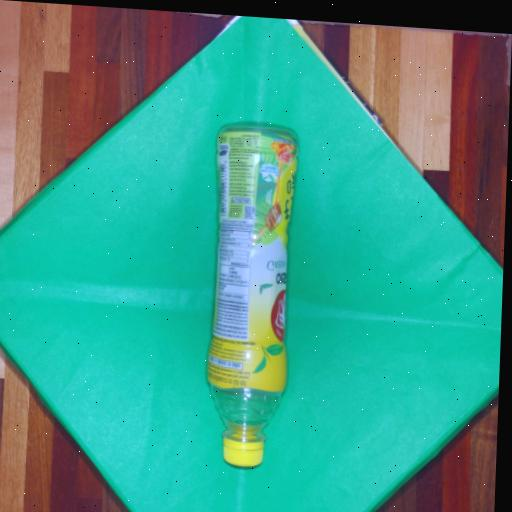bottle: (190, 104, 314, 488)
